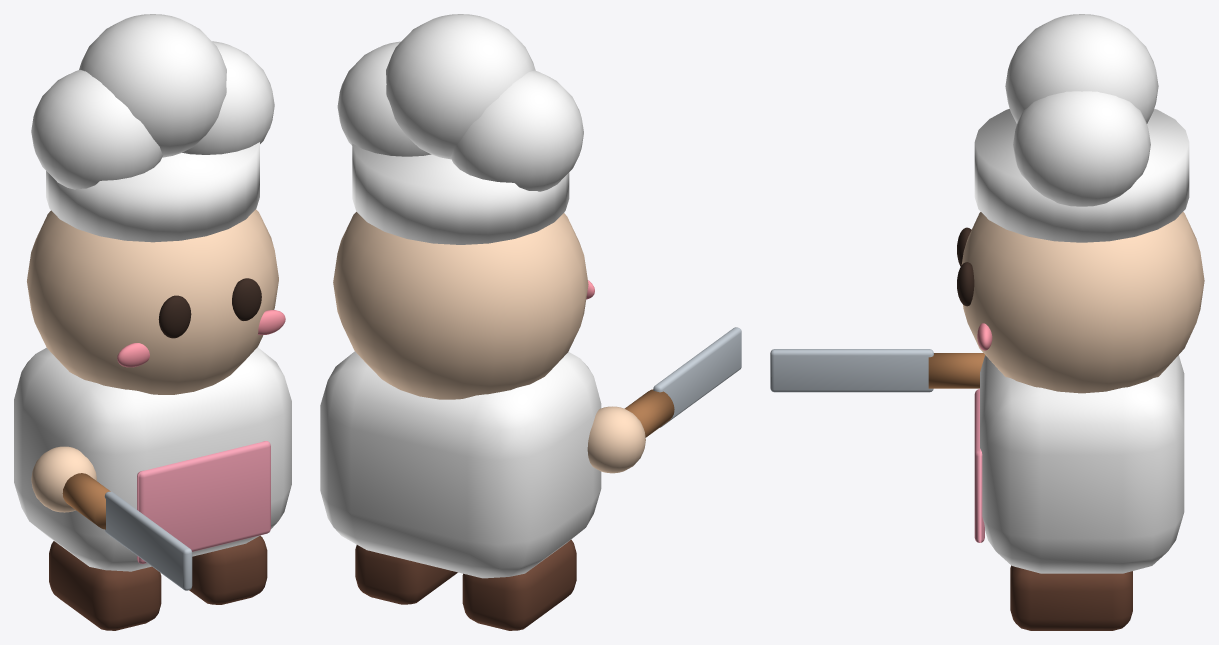
Rendered from Chef.fbx.
The picture shows the model from 3 angles, left to right: view 1: azimuth 30°, elevation 25°; view 2: azimuth 150°, elevation 25°; view 3: azimuth 270°, elevation 25°; orthographic projection.
Parts seen in each view (by area): view 1: ChefBody, Knife, FootL, FootR; view 2: ChefBody, Knife, FootL, FootR; view 3: ChefBody, Knife, FootR.
Boxes of the visible parts, <box> form: ChefBody: <box>14,14,291,571</box>; Knife: <box>31,446,192,590</box>; FootL: <box>49,541,161,630</box>; FootR: <box>189,535,267,604</box>; ChefBody: <box>320,14,601,578</box>; Knife: <box>587,327,741,473</box>; FootL: <box>462,539,576,630</box>; FootR: <box>355,545,457,604</box>; ChefBody: <box>957,14,1204,573</box>; Knife: <box>770,349,984,392</box>; FootR: <box>1010,565,1132,630</box>.
Size of the model in its own units: 0.59 by 1.24 by 0.85.
